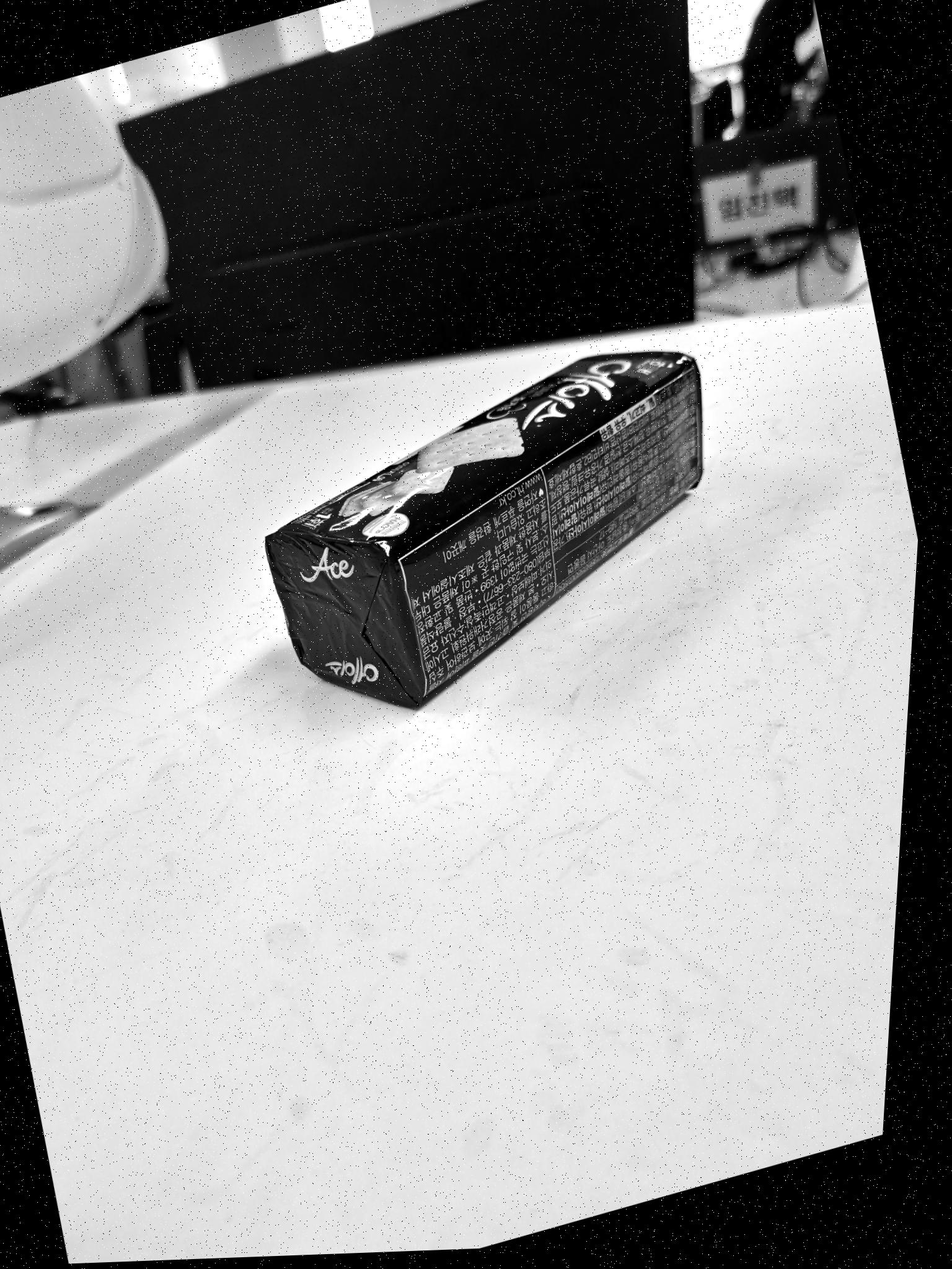cracker_ace: (266, 350, 701, 707)
